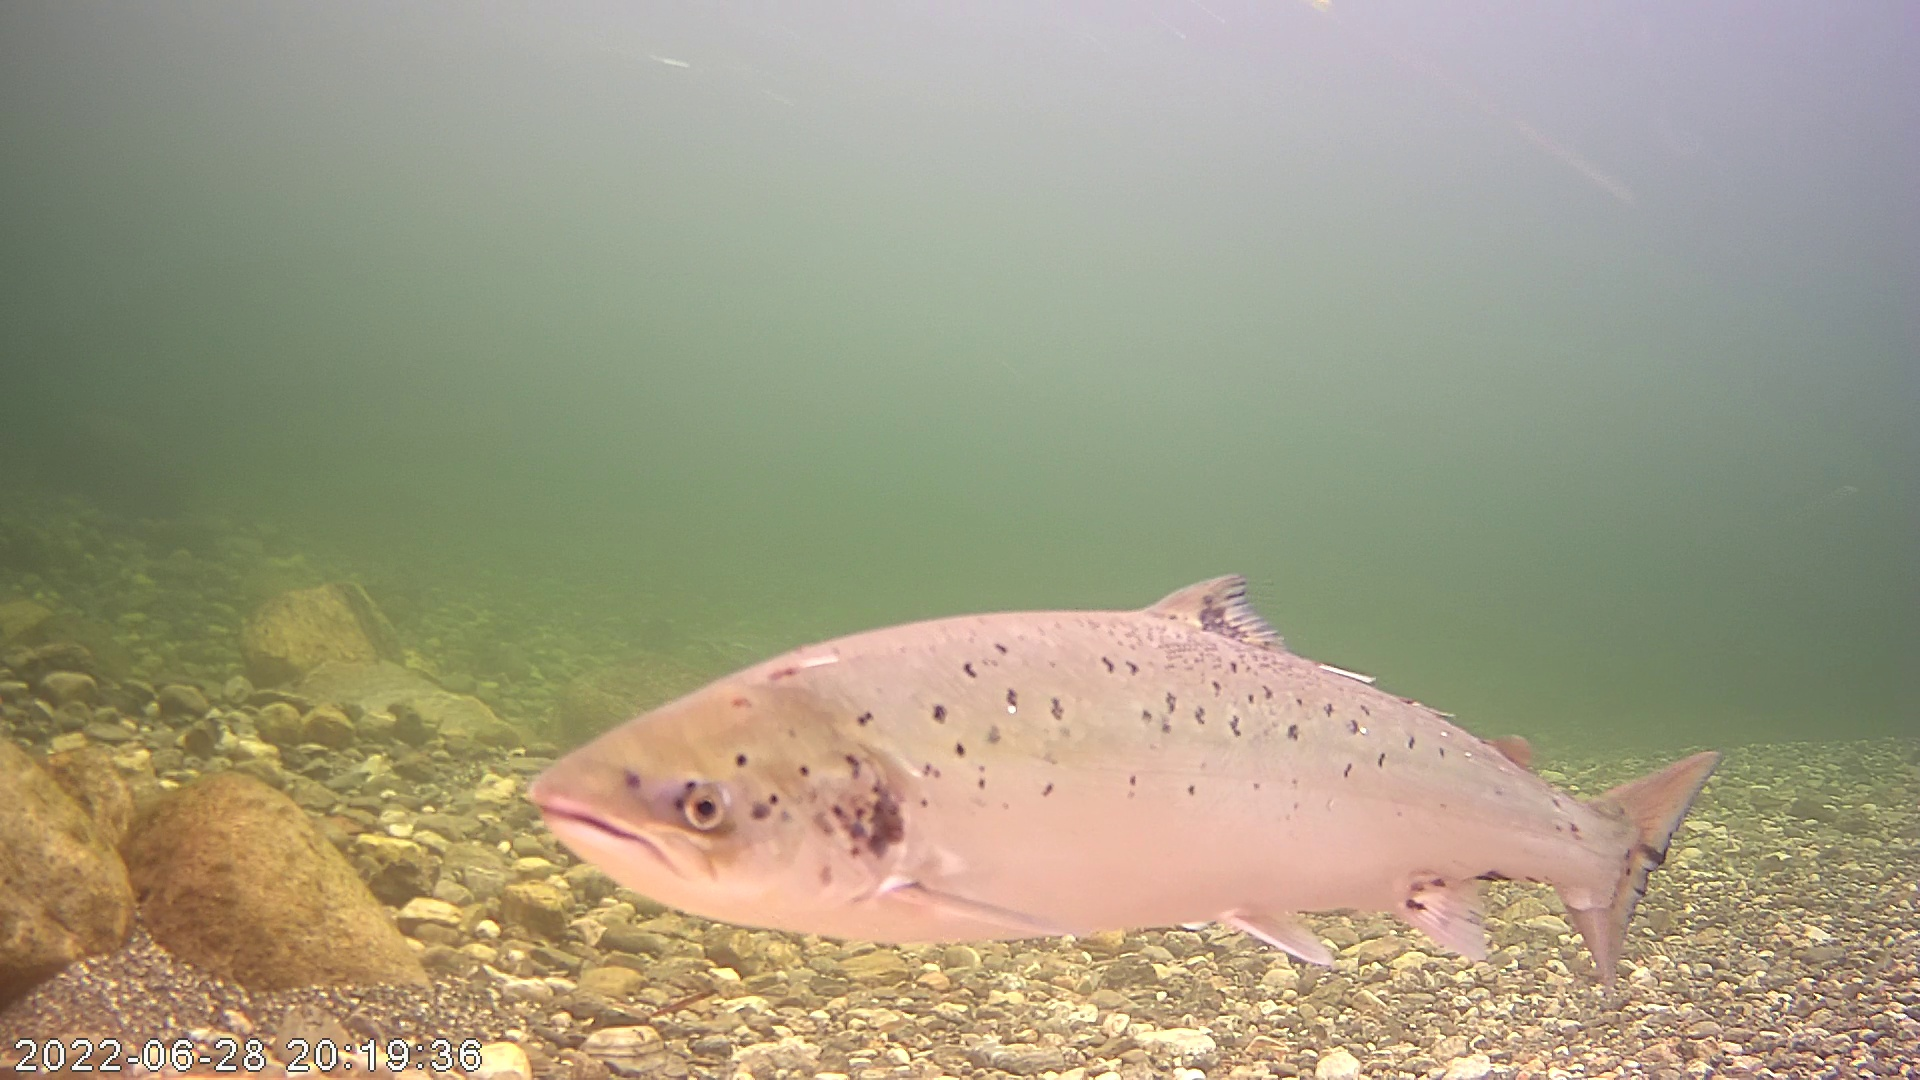salmon: (553, 483, 1673, 942)
